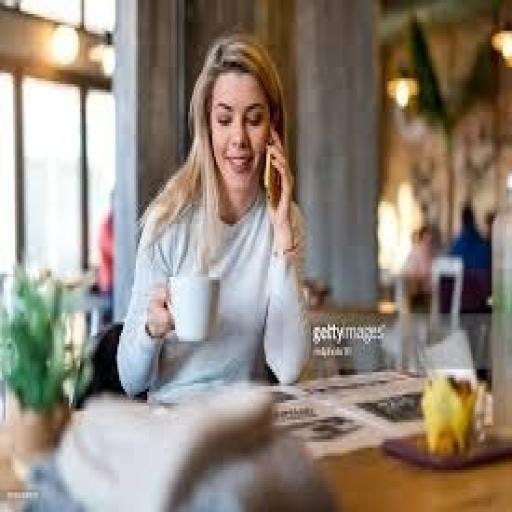calling: (114, 31, 314, 403)
